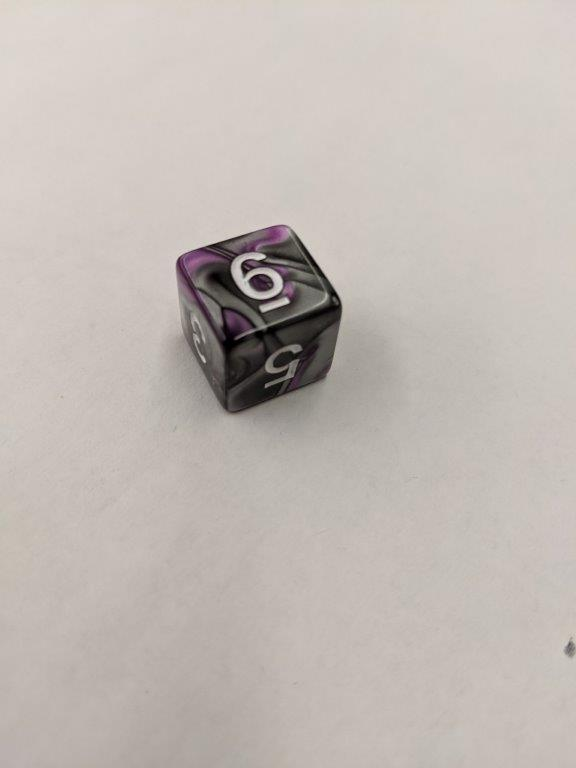d6-6: (178, 222, 346, 416)
